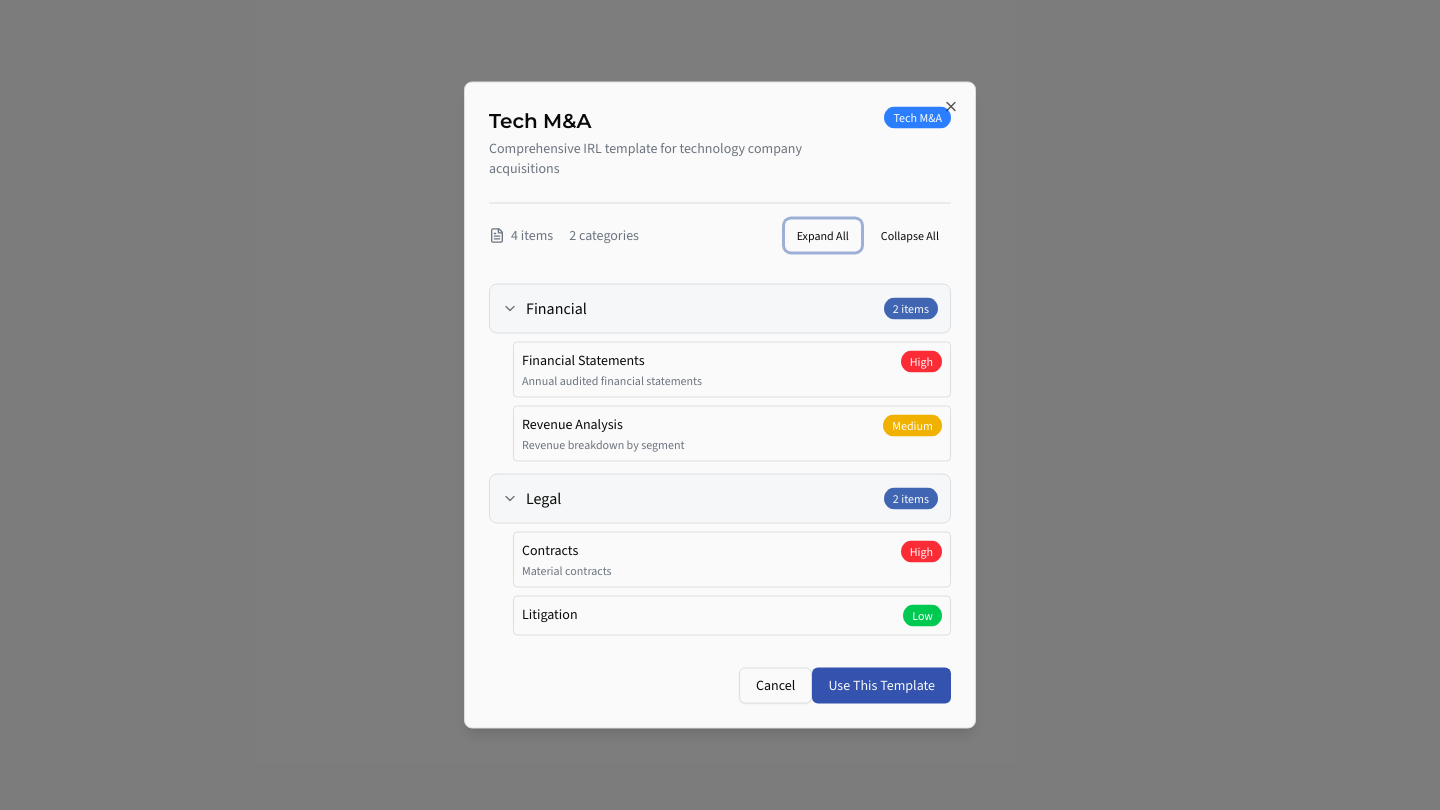
Test: IRLTemplateModal › collapsible categories (AC7) › should expand category when clicked again
Click the button with test id "category-financial" at (556, 308), box 489,284 -> 951,334
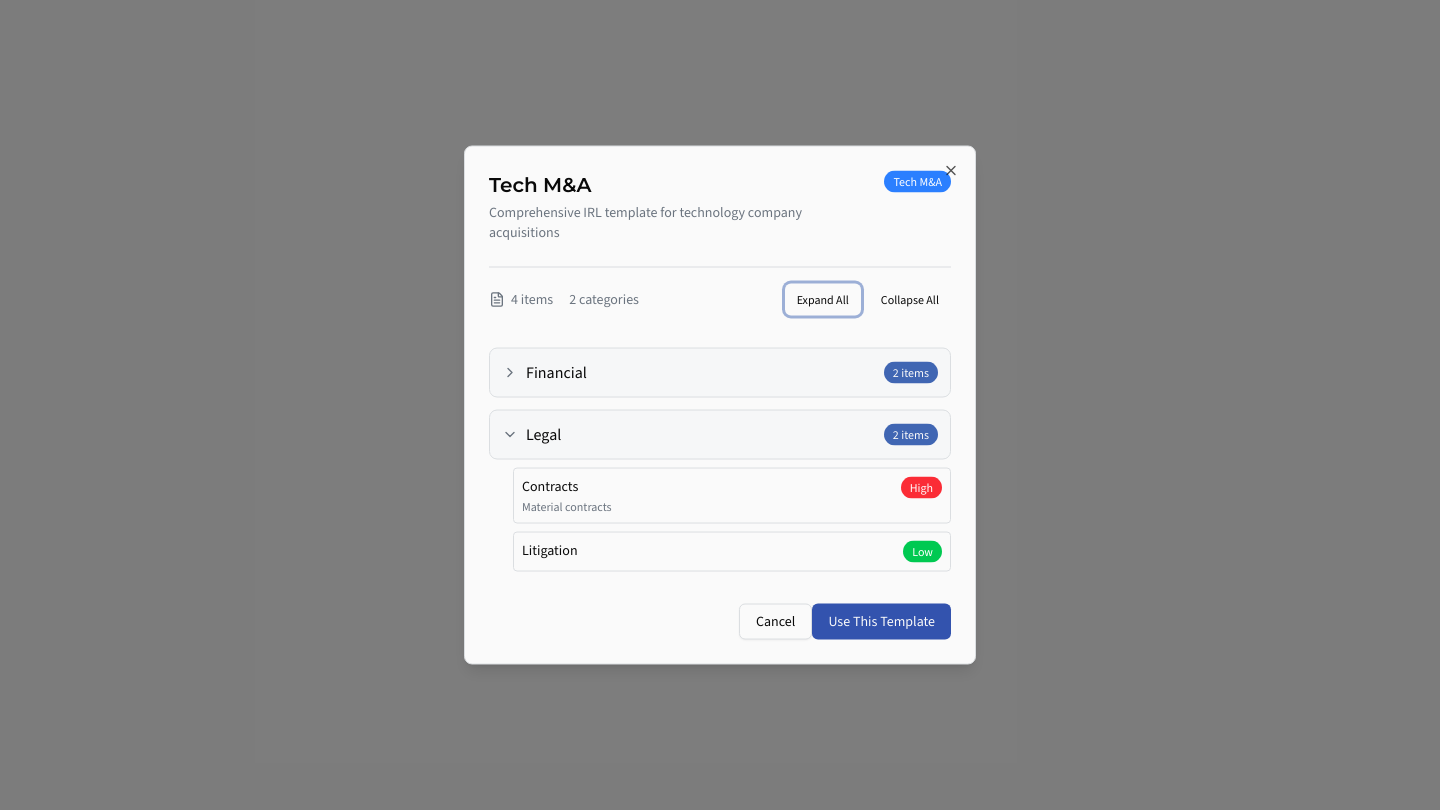
Expected: the number of elements with test id "template-item" is 2, 513,468 -> 951,524; 513,532 -> 951,572
# Expand again
Click the button with test id "category-financial" at (556, 372), box 489,348 -> 951,398
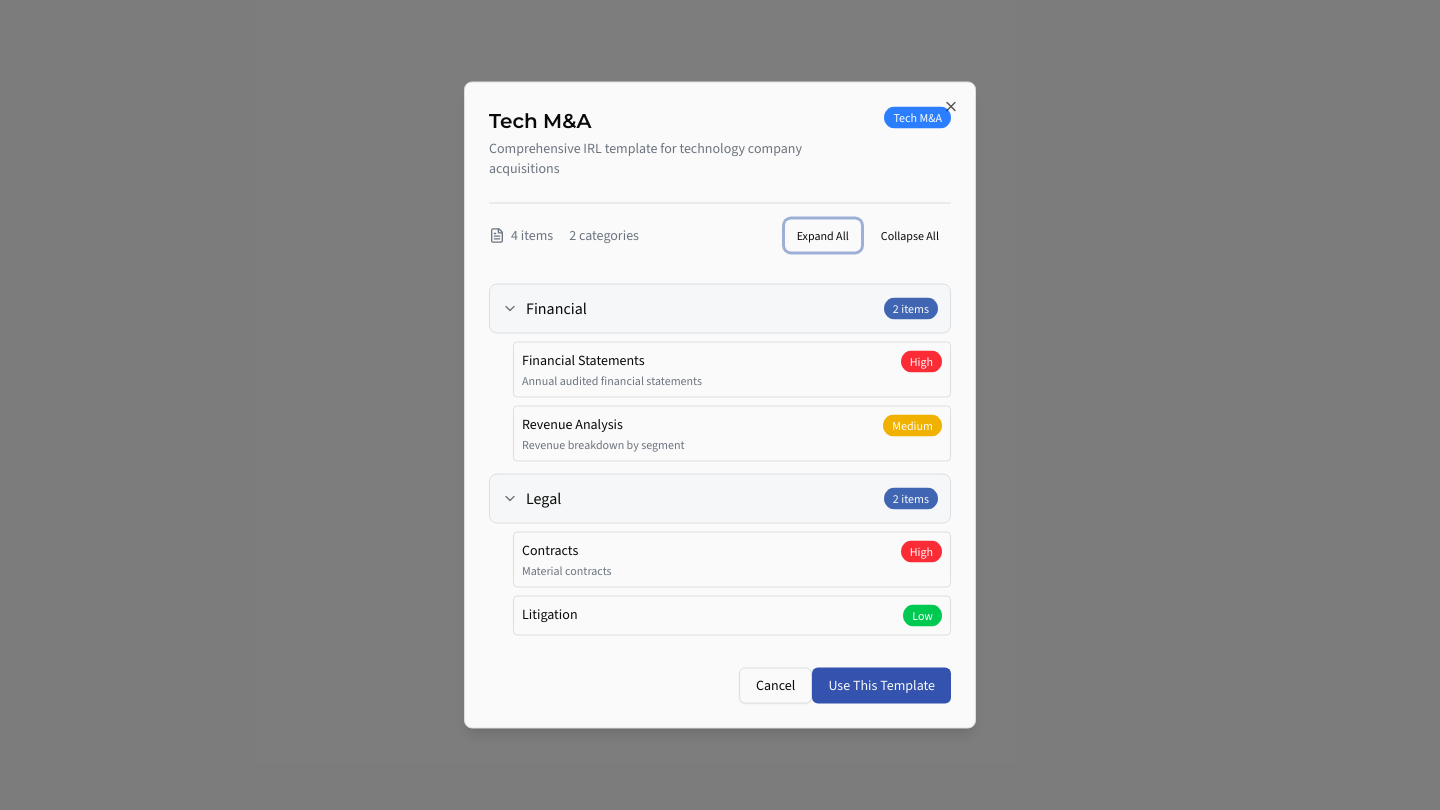
Expected: the number of elements with test id "template-item" is 4, 513,342 -> 951,398; 513,406 -> 951,462; 513,532 -> 951,588; 513,596 -> 951,636
